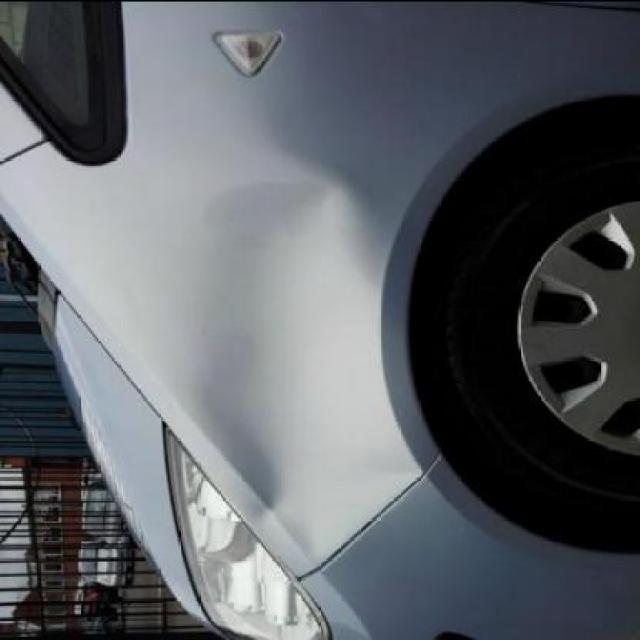damage: (169, 168, 422, 575)
